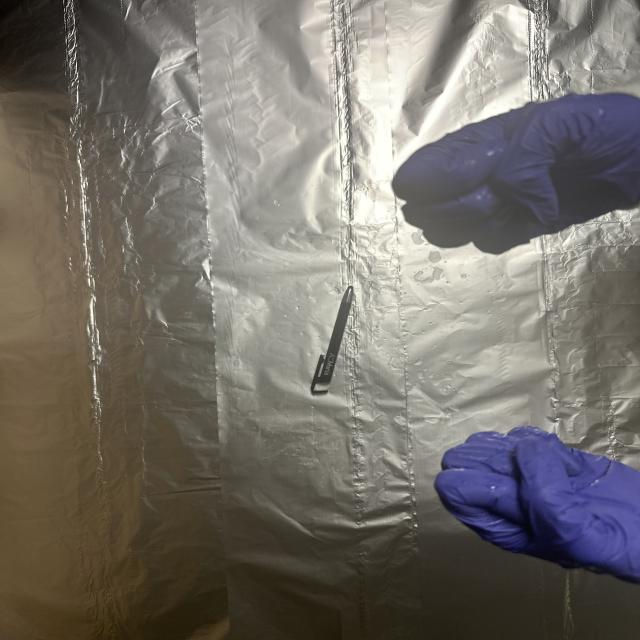gloves_contaminated: (392, 93, 640, 254), (435, 427, 640, 583)
